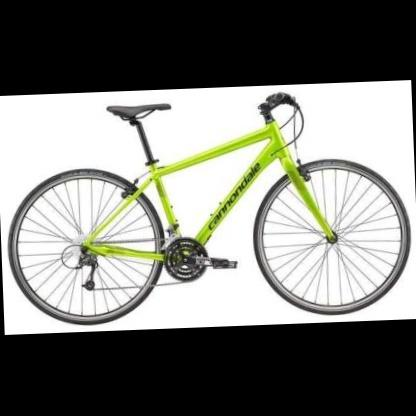Bicycle: (0, 83, 413, 325)
